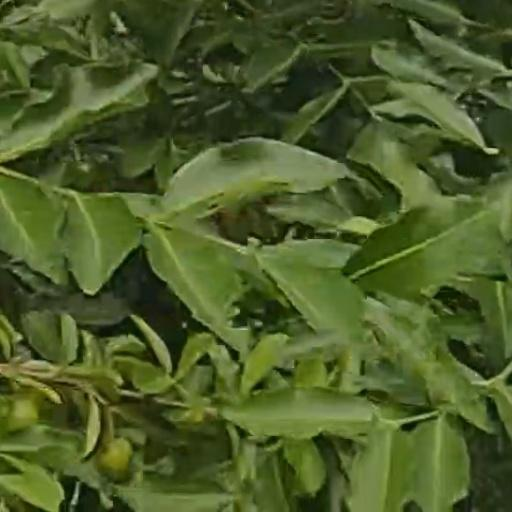acerola_verde: (102, 442, 133, 480)
